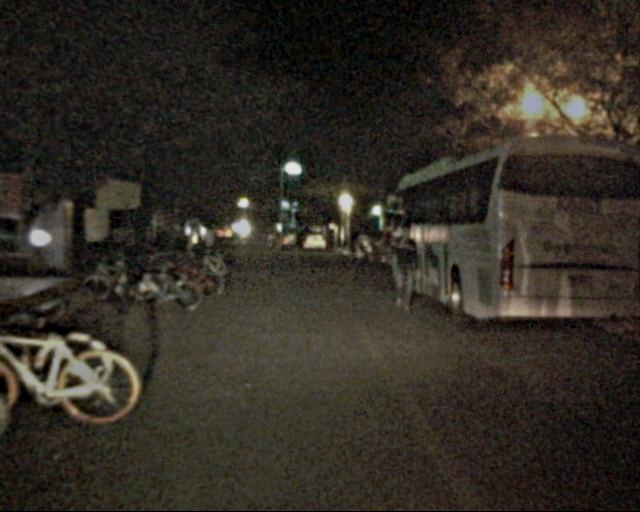person: (388, 223, 427, 319), (194, 217, 220, 275)
